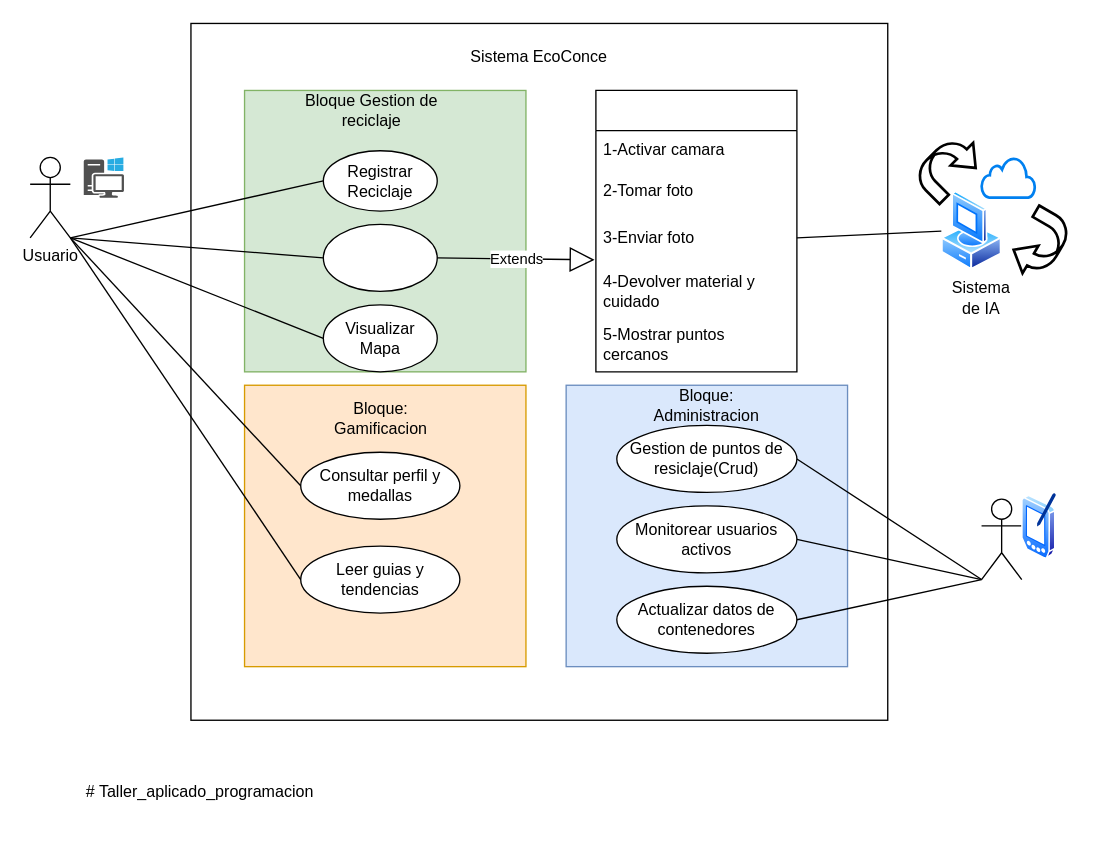
The diagram is 1099 pixels wide and 851 high, and some of its shapes have lost their labels. Each missing label, with the box of its shape:
Administrador: (980, 498, 1022, 580)
Escanear Material: (322, 223, 437, 291)
Identificador material (IA): (595, 89, 797, 372)
